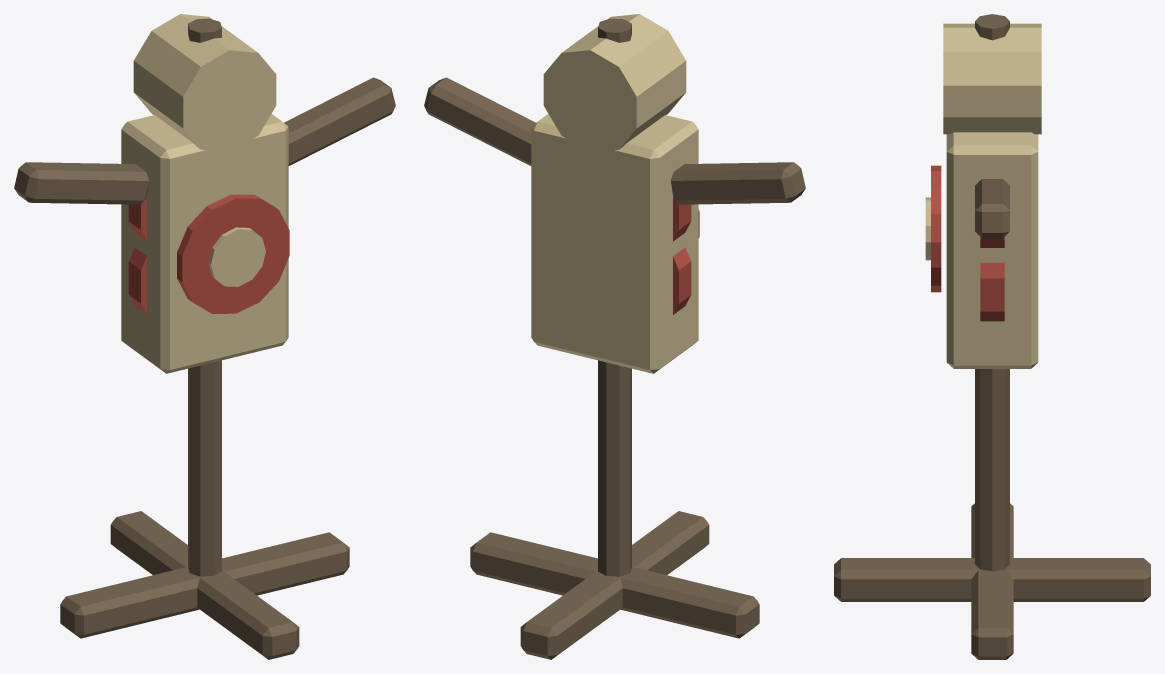
The model's file is courtyard_dummy.glb.
3 views of the same model, side by side, from view 1: azimuth 30°, elevation 25°; view 2: azimuth 150°, elevation 25°; view 3: azimuth 270°, elevation 25° (orthographic).
Visible parts, largest first — view 1: DummyTorso, DummyBaseL, DummyBand1; view 2: DummyTorso, DummyBaseL, DummyBand1; view 3: DummyTorso, DummyBaseL, DummyBand1.
Boxes of the visible parts, bbox=[...] form: DummyTorso: bbox=[121, 14, 288, 373]; DummyBaseL: bbox=[14, 18, 395, 659]; DummyBand1: bbox=[128, 194, 289, 314]; DummyTorso: bbox=[531, 14, 698, 373]; DummyBaseL: bbox=[424, 18, 805, 659]; DummyBand1: bbox=[673, 197, 699, 314]; DummyTorso: bbox=[925, 23, 1041, 368]; DummyBaseL: bbox=[834, 14, 1150, 659]; DummyBand1: bbox=[931, 165, 1004, 321].
Size of the model in its own units: 1.21 by 1.8 by 0.9.
